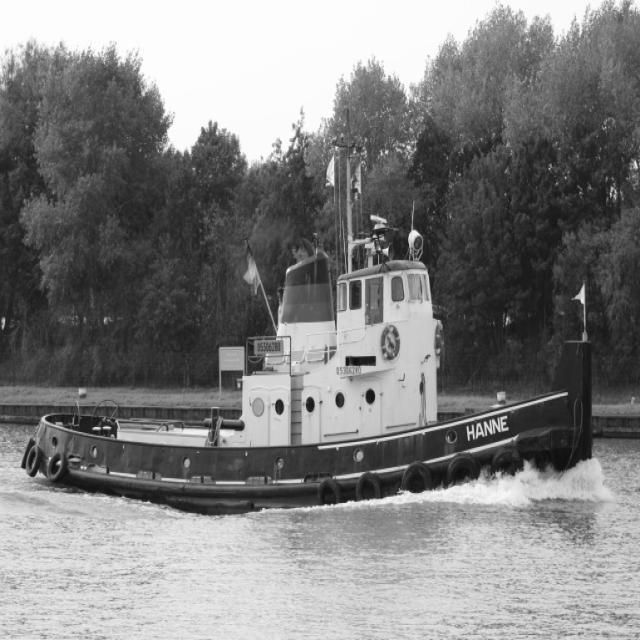tugboat: (20, 213, 596, 534)
